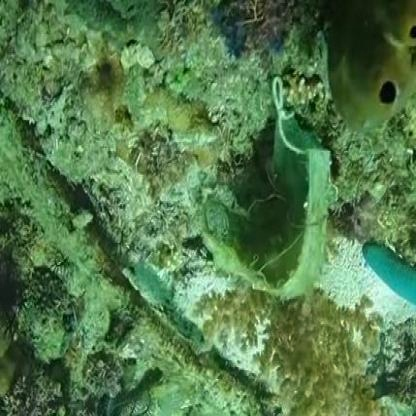misc: (218, 62, 340, 317)
